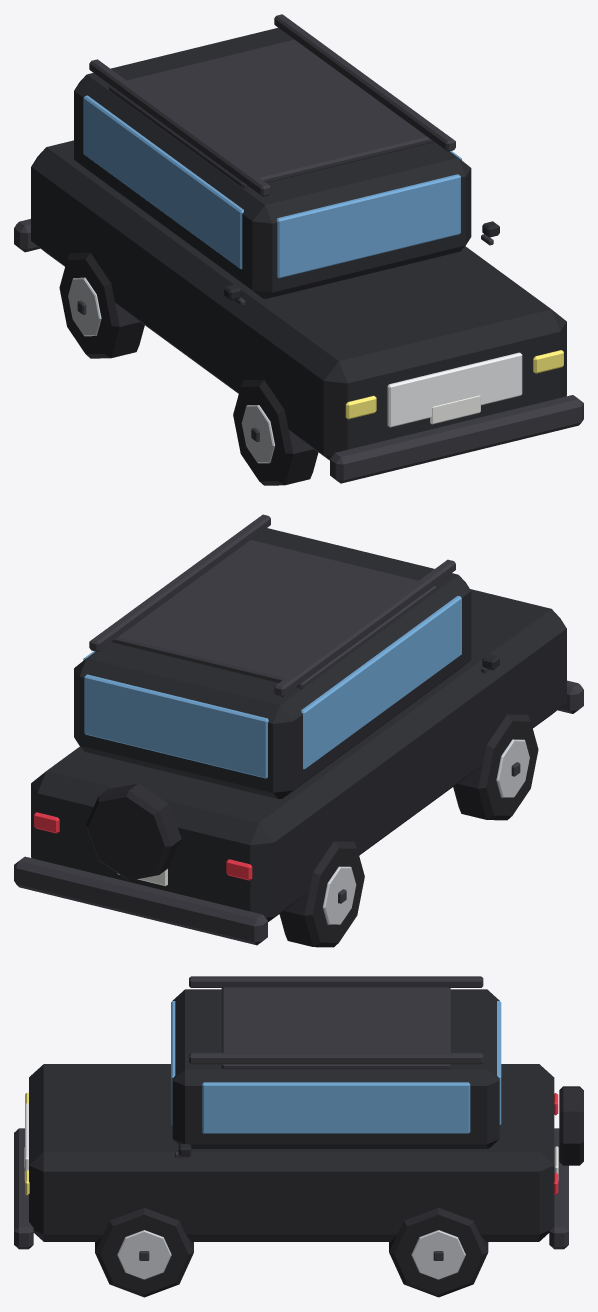
The model's file is BlackSUV.fbx.
3 views of the same model, one above another, from view 1: azimuth 30°, elevation 25°; view 2: azimuth 150°, elevation 25°; view 3: azimuth 270°, elevation 25° (orthographic). The views are drawn at different scales.
Visible parts, largest first — view 1: BlackSUV, BlackSUV_WheelBR, BlackSUV_WheelFR; view 2: BlackSUV, BlackSUV_WheelBR, BlackSUV_WheelFR; view 3: BlackSUV, BlackSUV_WheelBL, BlackSUV_WheelFL.
Part boxes in pixels (box(x1,y1,x2,y2)): BlackSUV: box(14, 14, 583, 483); BlackSUV_WheelBR: box(59, 252, 144, 358); BlackSUV_WheelFR: box(233, 379, 318, 485); BlackSUV: box(14, 514, 583, 945); BlackSUV_WheelBR: box(279, 841, 364, 947); BlackSUV_WheelFR: box(453, 714, 538, 820); BlackSUV: box(14, 976, 583, 1249); BlackSUV_WheelBL: box(389, 1207, 488, 1297); BlackSUV_WheelFL: box(95, 1207, 193, 1297).
Bounding box in the file's own units: 5.35 × 5.15 × 11.5.
1 material, 1 textured.
